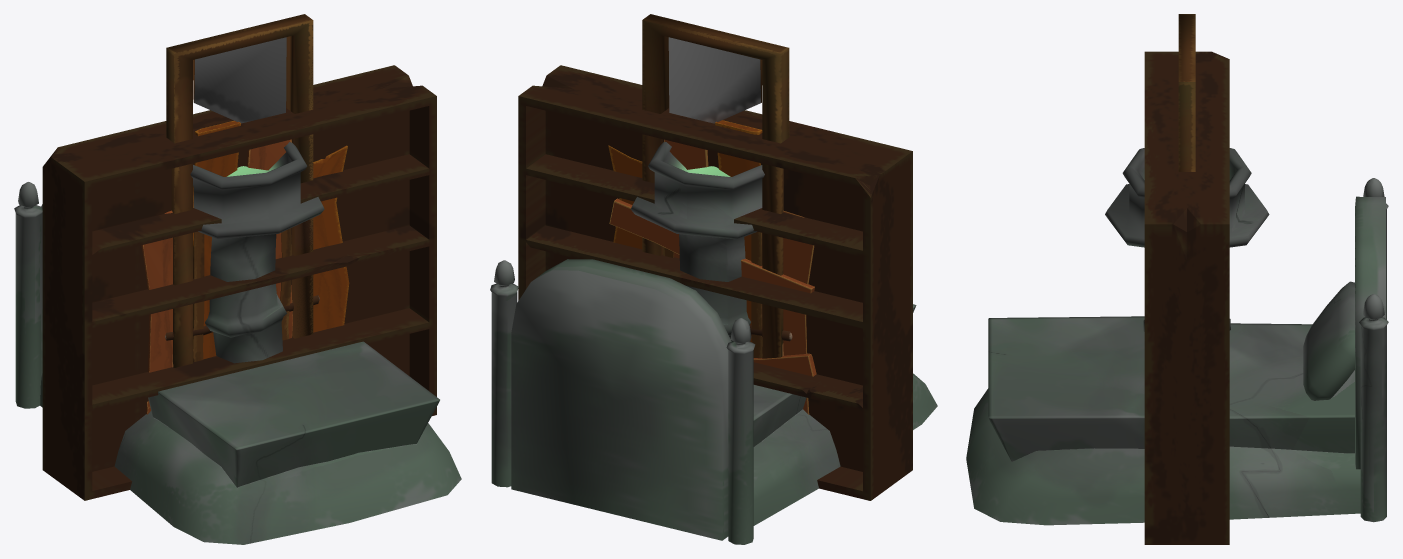
File: AssetsCucaExport1.fbx
3 views of the same model, side by side, from view 1: azimuth 30°, elevation 25°; view 2: azimuth 150°, elevation 25°; view 3: azimuth 270°, elevation 25° (orthographic).
Visible parts, largest first — view 1: Estante, Cama, Guilhotina, Pilar, Barreira, Escada; view 2: Cama, Estante, Guilhotina, Pilar, Barreira, Escada; view 3: Cama, Estante, Pilar, Guilhotina.
Part boxes in pixels (x1,y1,x2,y2): Estante: (42, 65, 436, 500); Cama: (14, 182, 461, 544); Guilhotina: (166, 14, 313, 367); Pilar: (190, 142, 324, 363); Barreira: (141, 120, 349, 414); Escada: (193, 228, 292, 362); Cama: (490, 259, 937, 544); Estante: (518, 65, 912, 500); Guilhotina: (642, 14, 789, 358); Pilar: (630, 142, 764, 341); Barreira: (608, 120, 816, 414); Escada: (663, 231, 762, 358); Cama: (966, 178, 1388, 525); Estante: (1144, 51, 1229, 544); Pilar: (1105, 148, 1269, 331); Guilhotina: (1178, 14, 1195, 171).
Bounding box in the file's own units: 296 × 331 × 306.
